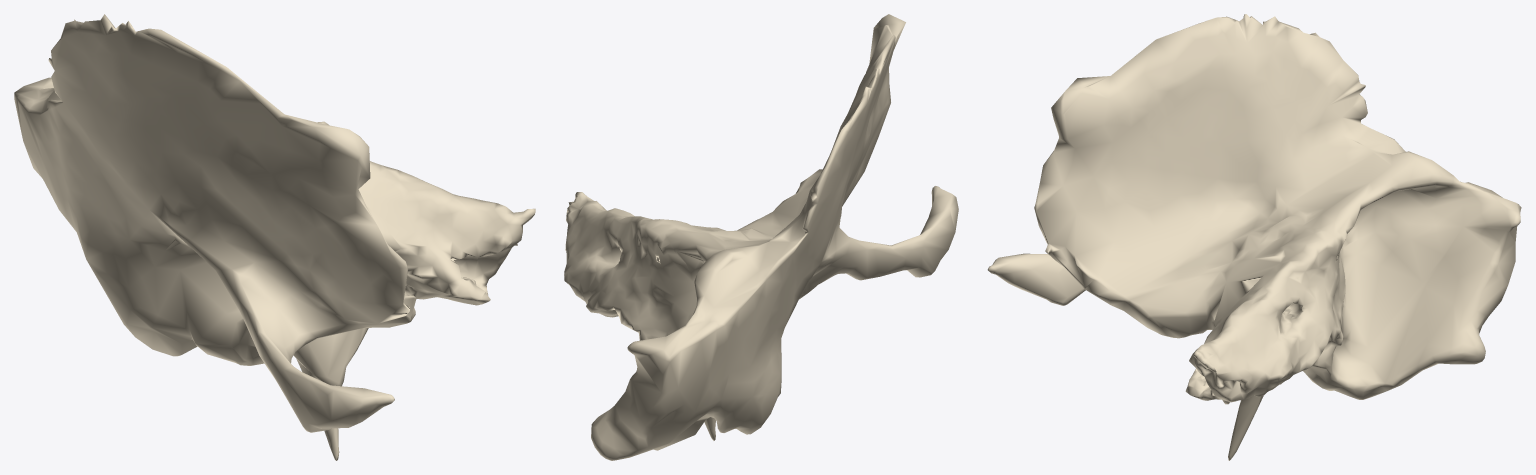
File: temporal-bone-r.glb
3 views of the same model, side by side, from view 1: azimuth 30°, elevation 25°; view 2: azimuth 150°, elevation 25°; view 3: azimuth 270°, elevation 25° (orthographic). The views are drawn at different scales.
Visible parts, largest first — view 1: Temporal bone.r; view 2: Temporal bone.r; view 3: Temporal bone.r.
Part boxes in pixels (left/top/right/bottom): Temporal bone.r: left=14, top=14, right=535, bottom=460; Temporal bone.r: left=564, top=14, right=958, bottom=460; Temporal bone.r: left=987, top=14, right=1521, bottom=460.
Bounding box in the file's own units: 0.0628 × 0.0744 × 0.0963.
